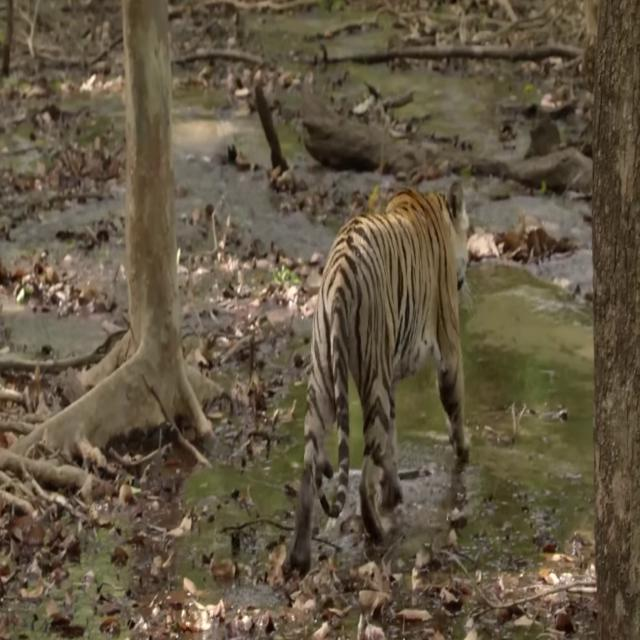tiger: (280, 181, 472, 588)
